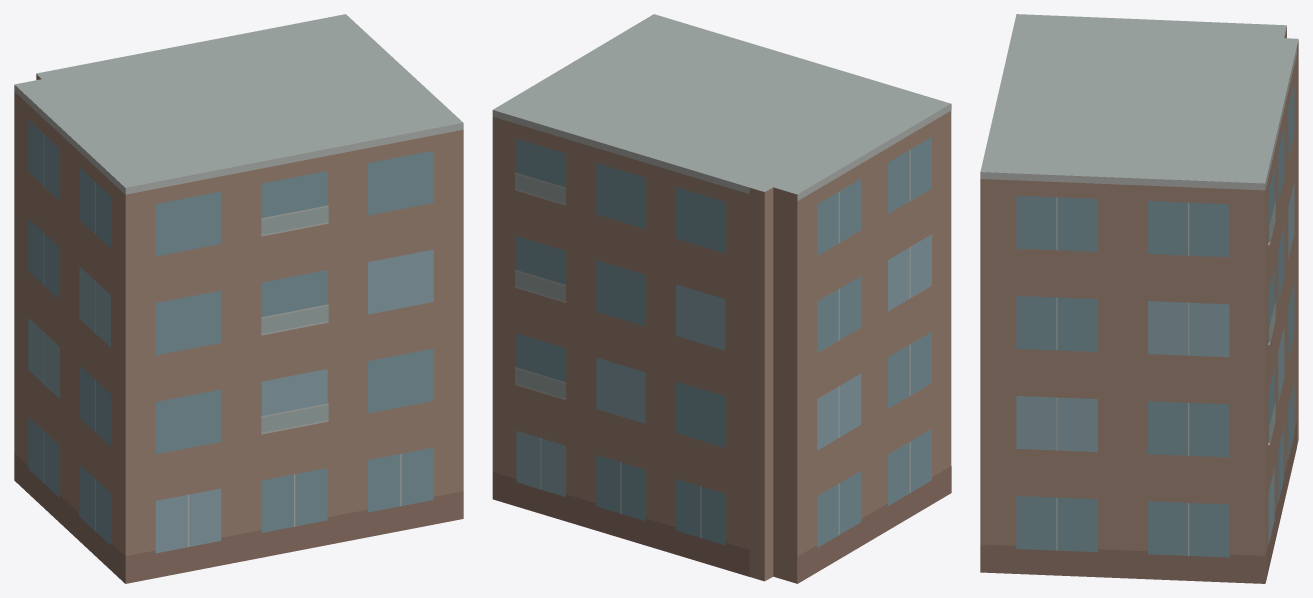
The model's file is survey-upis-32816600.glb.
3 views of the same model, side by side, from view 1: azimuth 30°, elevation 25°; view 2: azimuth 150°, elevation 25°; view 3: azimuth 270°, elevation 25° (orthographic). The views are drawn at different scales.
Parts seen in each view (by area): view 1: survey-upis-32816600.tmp; view 2: survey-upis-32816600.tmp; view 3: survey-upis-32816600.tmp.
Part boxes in pixels (box(x1,y1,x2,y2)): survey-upis-32816600.tmp: box(14, 14, 463, 583); survey-upis-32816600.tmp: box(492, 14, 951, 583); survey-upis-32816600.tmp: box(980, 14, 1298, 583).
Bounding box in the file's own units: 12.9 × 14.19 × 10.24.
